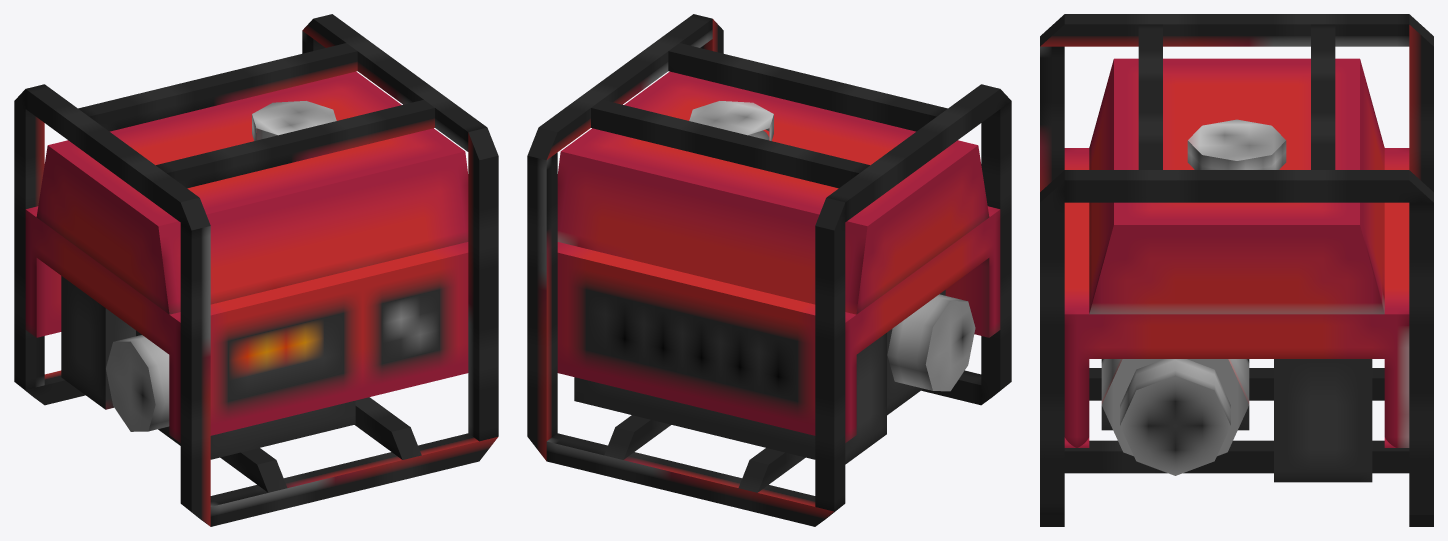
File: dieselgen_item.obj
3 renders of one model, left to right at view 1: azimuth 30°, elevation 25°; view 2: azimuth 150°, elevation 25°; view 3: azimuth 270°, elevation 25°, orthographic. The views are drawn at different scales.
Parts seen in each view (by area): view 1: Generator, Engine; view 2: Generator, Engine; view 3: Generator, Engine.
Part boxes in pixels (x1,y1,x2,y2): Generator: (14, 14, 498, 526); Engine: (106, 330, 355, 459); Generator: (527, 14, 1011, 526); Engine: (887, 290, 975, 415); Generator: (1040, 14, 1433, 526); Engine: (1101, 359, 1249, 475).
Size of the model in its own units: 1 by 1 by 1.
